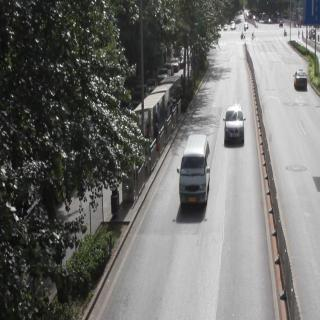Car: (179, 129, 209, 212), (227, 90, 244, 150), (293, 69, 308, 92)
